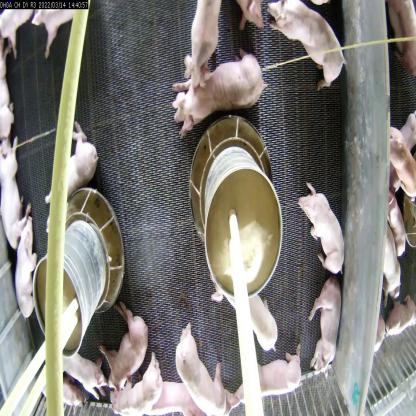Pig: (175, 53, 270, 133), (266, 0, 347, 88), (172, 320, 230, 416), (298, 175, 350, 273), (106, 290, 151, 385), (0, 136, 34, 231), (310, 279, 343, 371), (12, 212, 40, 320)
